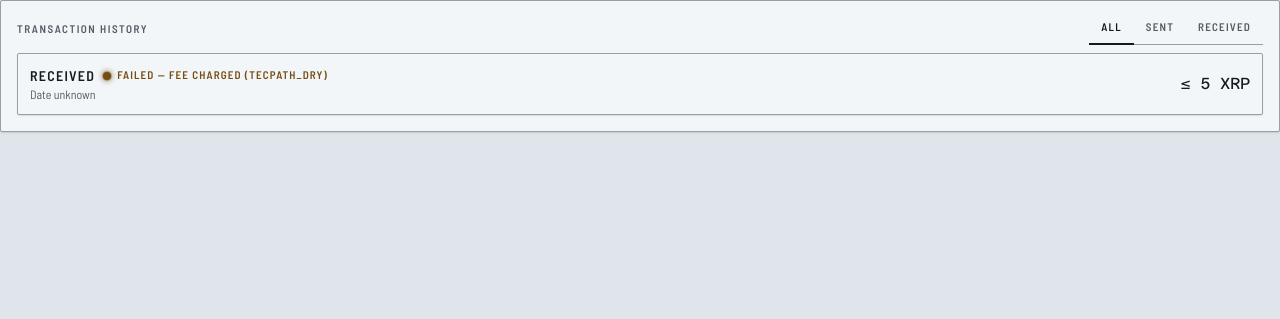
Test: HistoryTab — an amount not known to be delivered is an upper bound › words a failed payment as failed, not as an unreported amount
Expected: the text "≤ 5 XRP" is shown, x1=1181 y1=72 x2=1250 y2=96
Click the button: (63,75) x1=30 y1=66 x2=1250 y2=102
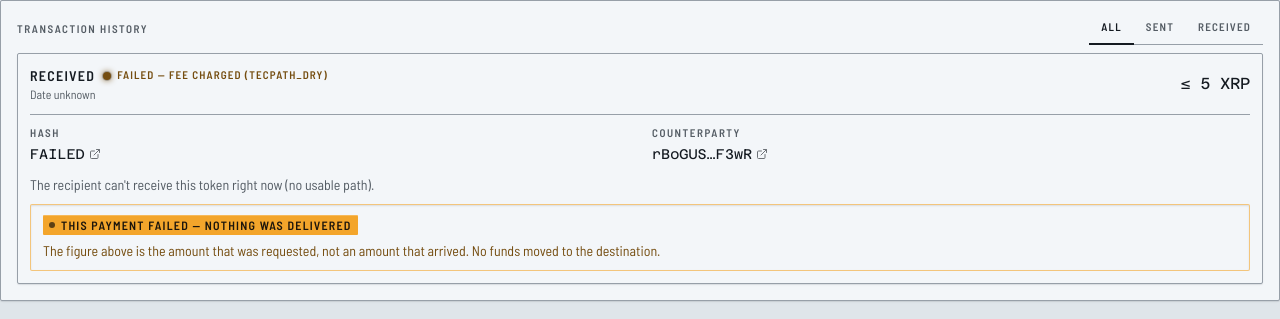
Result: the text "This payment failed — nothing was delivered" is shown at x1=43 y1=215 x2=358 y2=235
Result: the text "the amount that was requested" is shown at x1=43 y1=242 x2=660 y2=259
